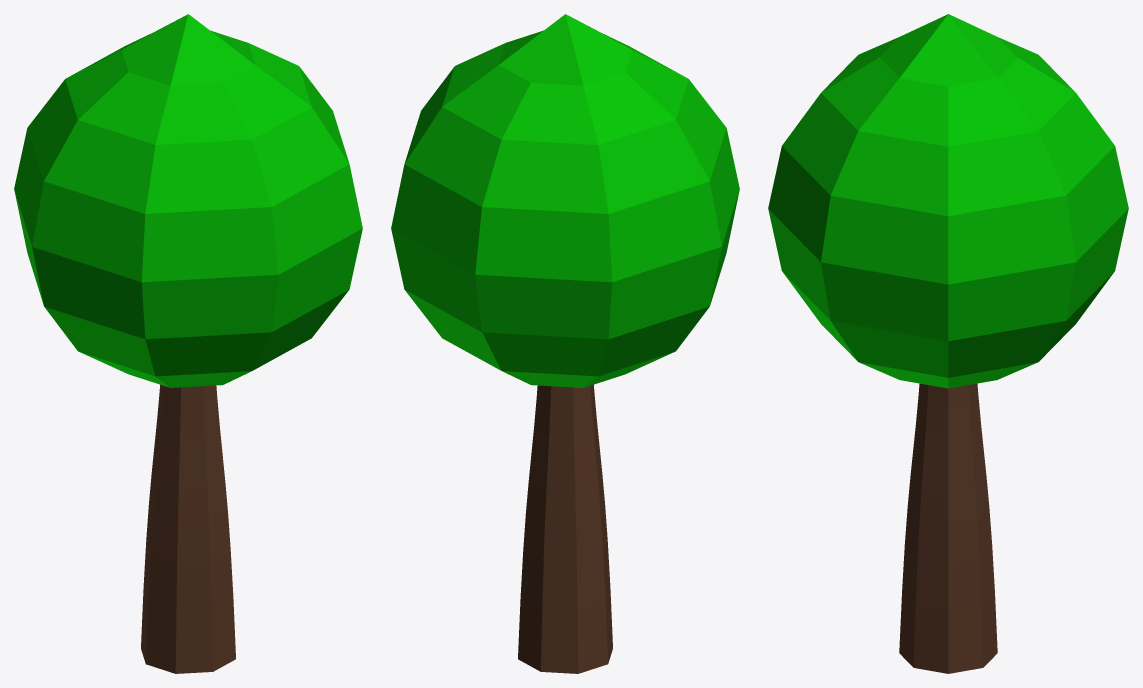
Rendered from tree_01.glb.
3 views of the same model, side by side, from view 1: azimuth 30°, elevation 25°; view 2: azimuth 150°, elevation 25°; view 3: azimuth 270°, elevation 25° (orthographic).
Visible parts, largest first — view 1: Tree_01; view 2: Tree_01; view 3: Tree_01.
Part boxes in pixels (x1=…): Tree_01: x1=14, y1=14, x2=362, y2=673; Tree_01: x1=391, y1=14, x2=739, y2=673; Tree_01: x1=768, y1=14, x2=1128, y2=673.
Size of the model in its own units: 5.65 by 11.04 by 5.65.
1 material, 1 textured.
